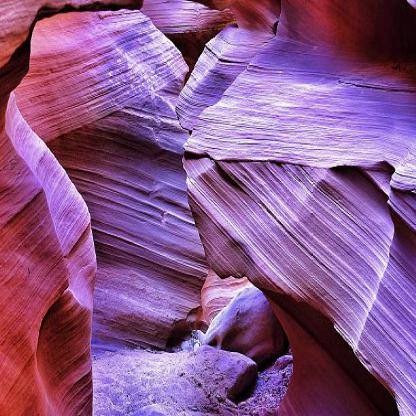Sedimentary_Sandstone: (184, 42, 416, 415), (0, 101, 96, 415)
